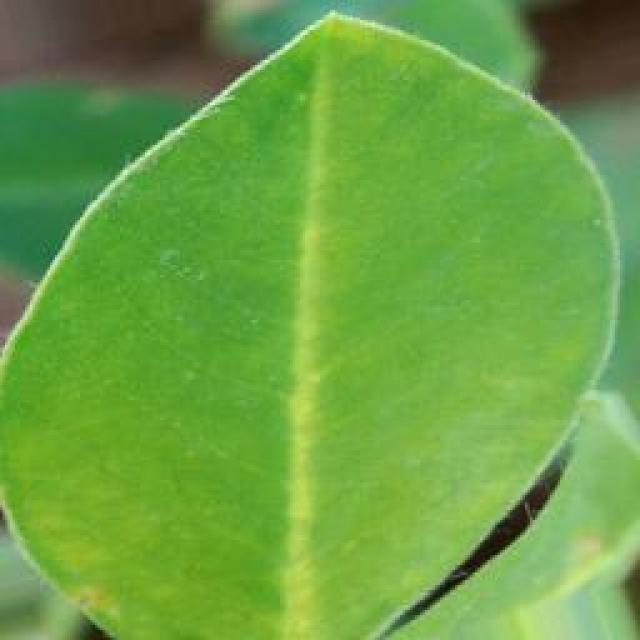Yellow_and_black_sigatoka: (0, 12, 615, 640)
